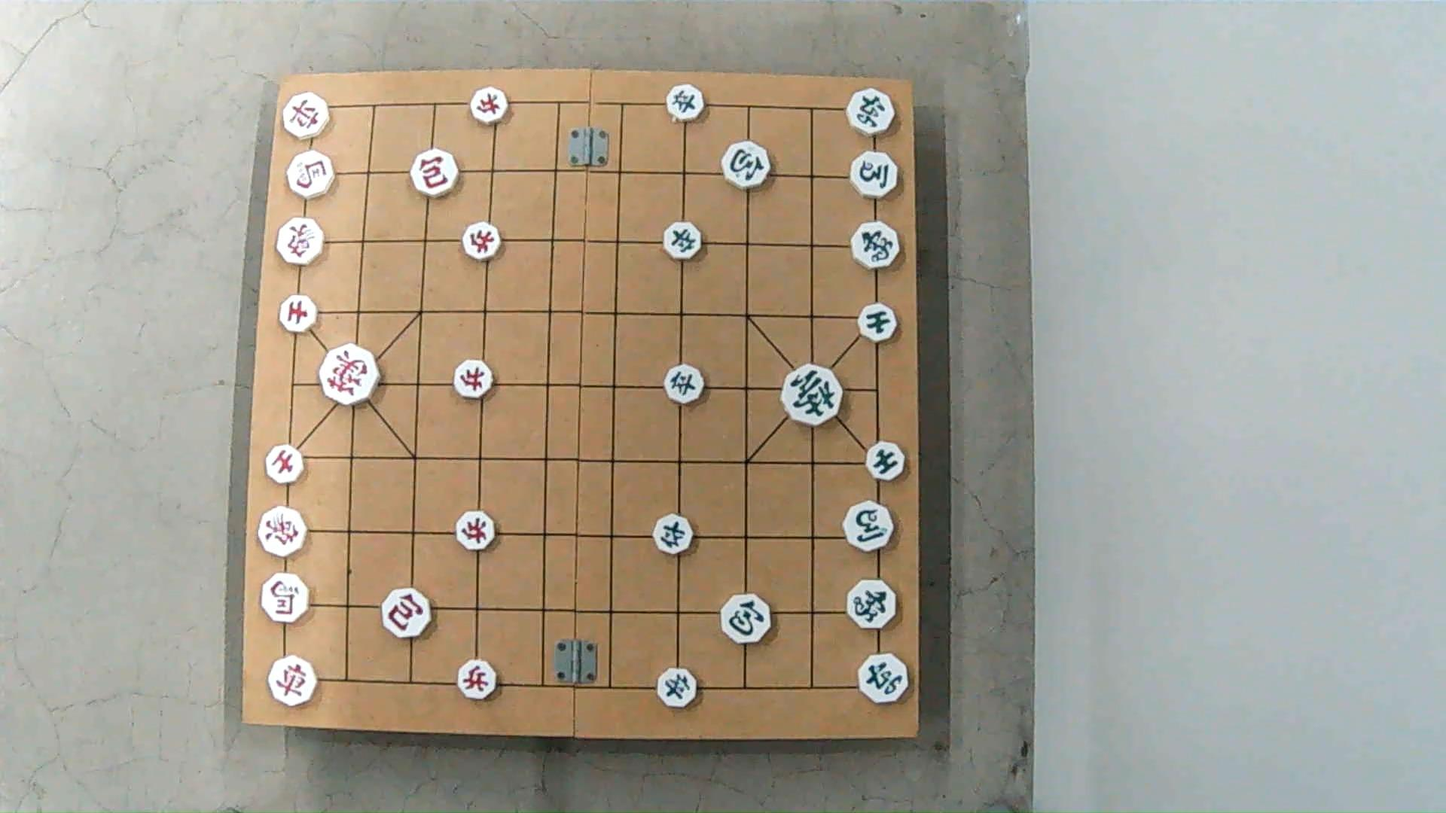cha_green: (856, 652, 911, 705), (848, 90, 898, 133)
cha_red: (268, 659, 319, 705), (283, 93, 334, 138)
jol_green: (655, 670, 700, 707), (649, 519, 694, 554), (664, 366, 706, 402), (660, 224, 702, 260), (665, 87, 706, 120)
jol_red: (456, 662, 499, 699), (455, 514, 498, 550), (453, 362, 497, 397), (462, 225, 505, 260), (470, 90, 512, 122)
ma_green: (842, 504, 895, 551), (851, 154, 904, 198)
ma_red: (259, 578, 310, 623), (287, 154, 337, 199)
po_green: (718, 594, 771, 644), (721, 142, 773, 189)
po_red: (380, 587, 432, 636), (409, 151, 460, 196)
sa_green: (865, 443, 908, 480), (857, 306, 899, 341)
sa_red: (278, 294, 322, 331), (263, 446, 304, 483)
sang_green: (849, 577, 901, 632), (851, 221, 903, 272)
sang_red: (261, 510, 310, 556), (275, 219, 325, 263)
wang_green: (779, 367, 844, 423)
wang_red: (319, 349, 381, 403)
